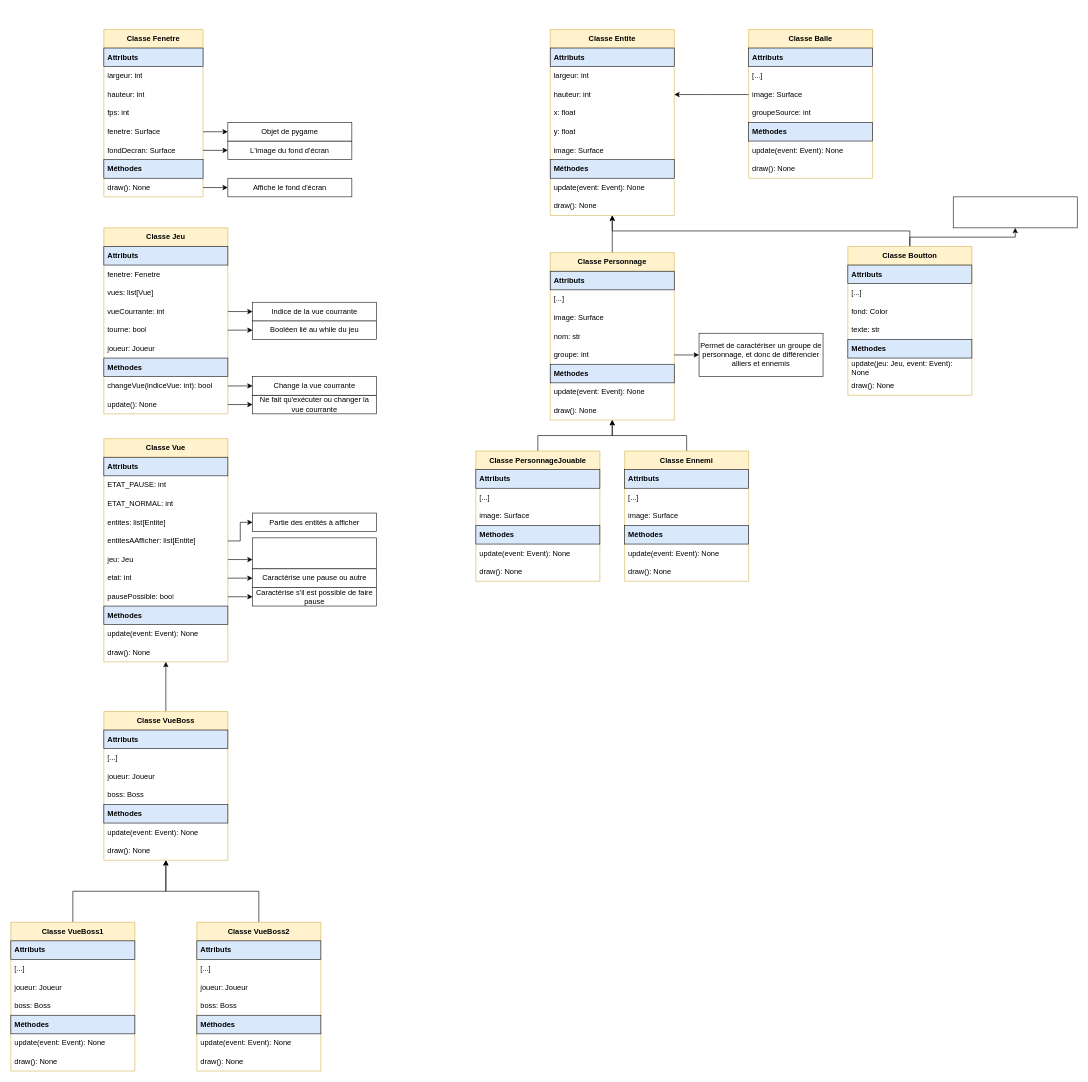
Image size: 1088x1082. Some labels were removed from this diagram. The centre of each missing label's shape, as x and y in pixels:
"Réfère au jeu principal -> permet de changer de vue..." goes at (314,553).
"Va permettre de quitter l'écran de pause, de choisir un menu ..." goes at (1015,212).
